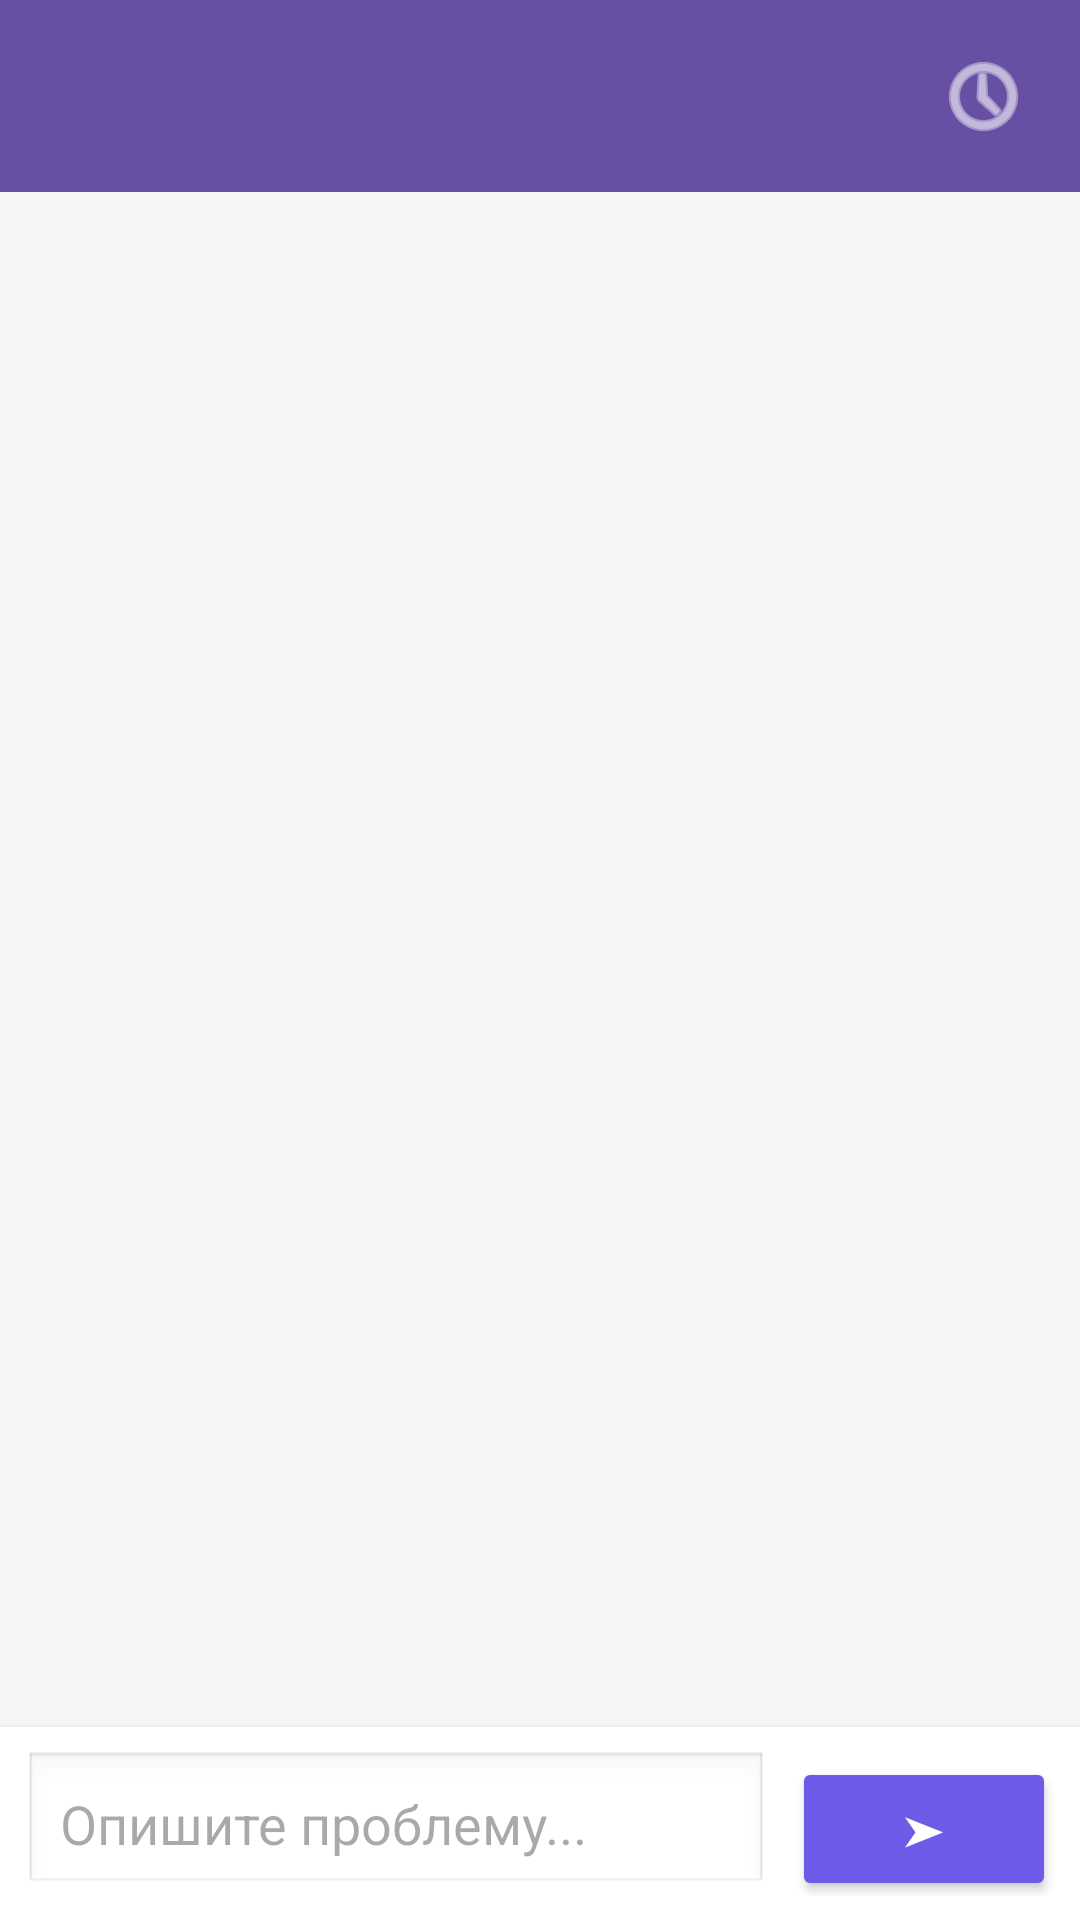

Icons on this 1080px×1920px Android screen, each with its box as (x1, y1, x2, y2):
История: (949, 62, 1018, 131)
